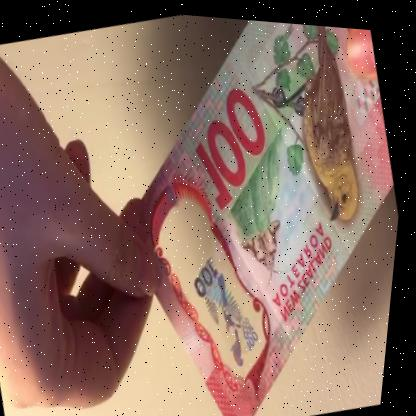100B: (181, 236, 284, 378)
